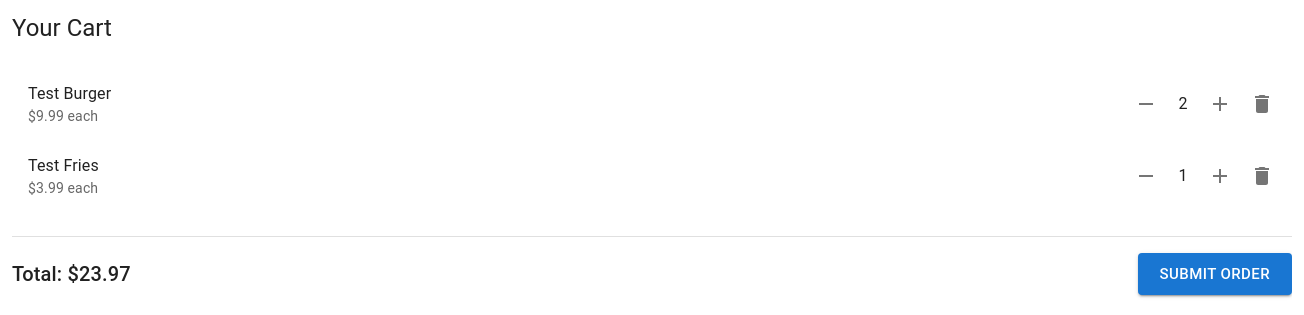
Test: Cart › should increment quantity when clicking increase button
Step 1. Click the button named "increase test burger" → (1220, 104), box [1203,87,1237,121]
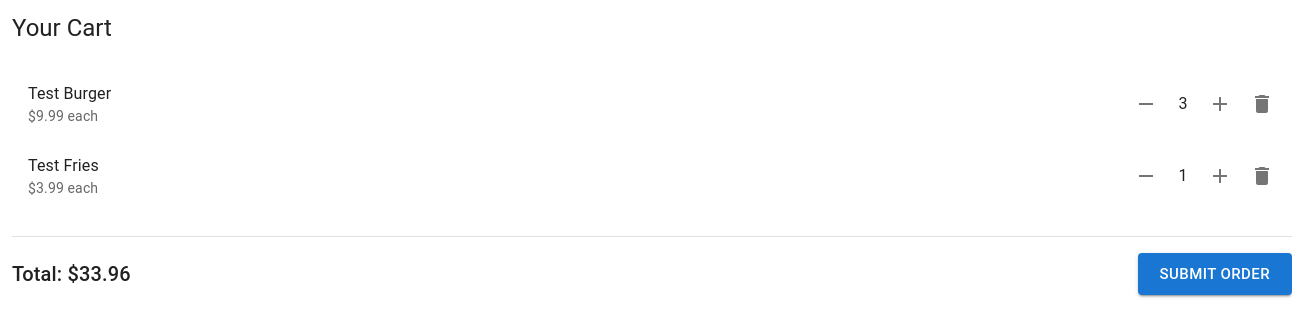
Expected: the text "3" is shown, [1178,94,1188,113]
